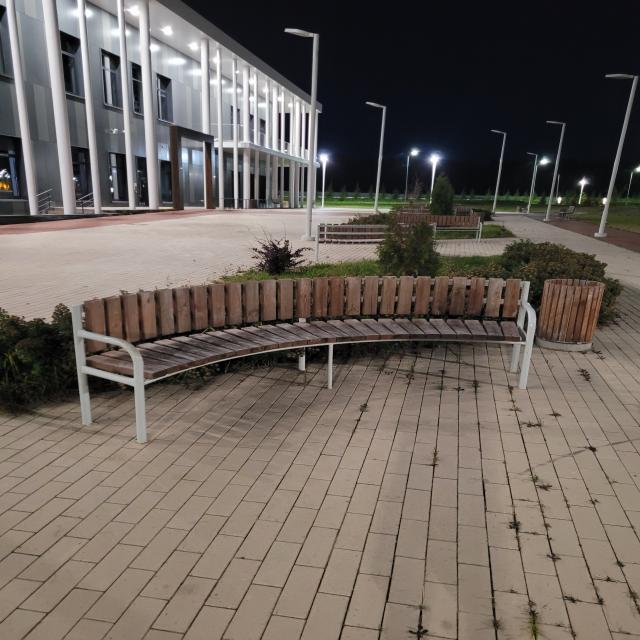Bench: (71, 276, 536, 443)
